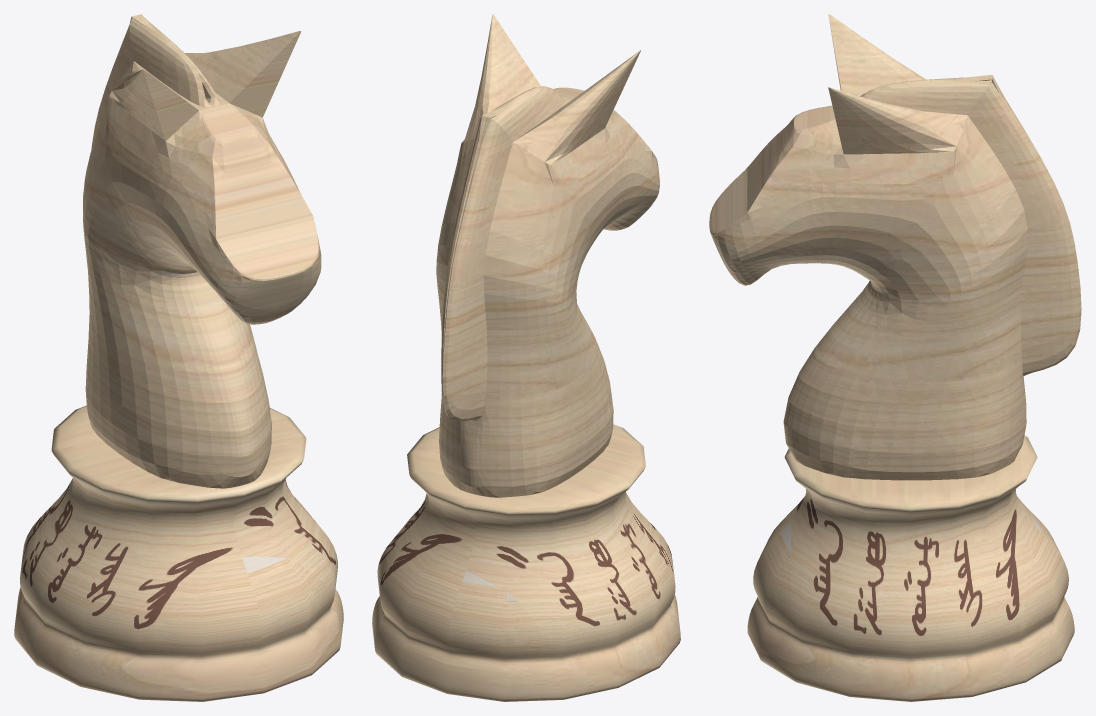
File: Caballo.fbx
3 renders of one model, left to right at view 1: azimuth 30°, elevation 25°; view 2: azimuth 150°, elevation 25°; view 3: azimuth 270°, elevation 25°, orthographic. The views are drawn at different scales.
Visible parts, largest first — view 1: Caballo; view 2: Caballo; view 3: Caballo.
Part boxes in pixels (x1,y1,x2,y2): Caballo: [14, 14, 343, 701]; Caballo: [372, 14, 680, 701]; Caballo: [709, 14, 1081, 701].
Size of the model in its own units: 37.3 by 76.85 by 44.06.
2 materials, 2 textured.
